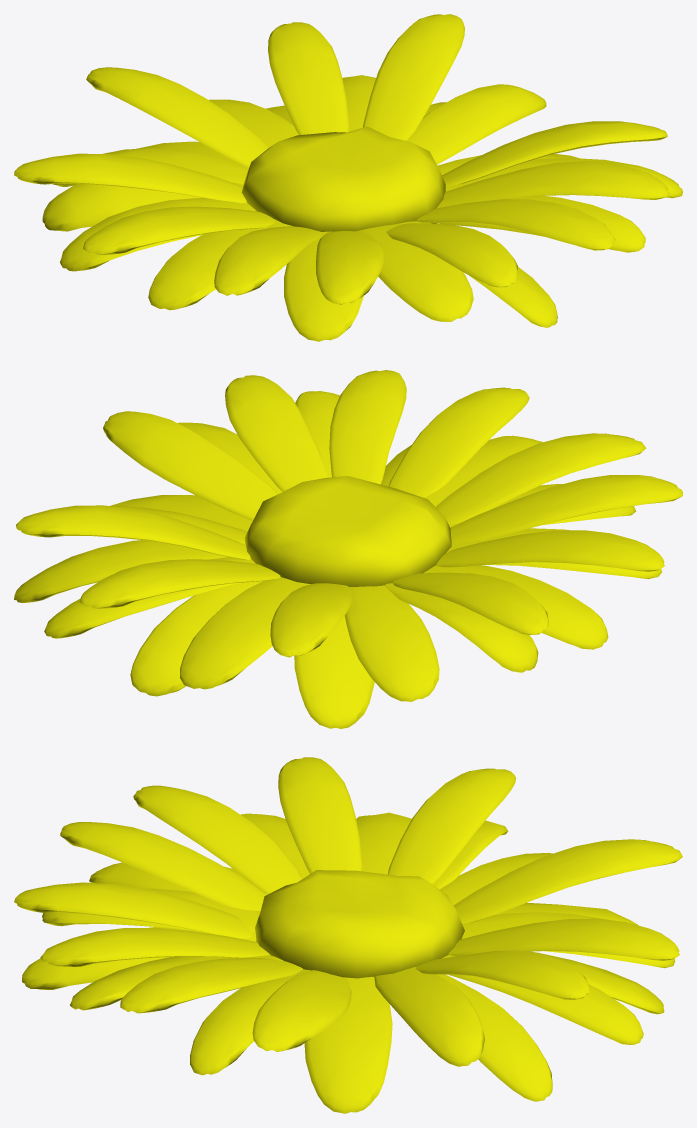
Rendered from daisy.fbx.
3 renders of one model, top to bottom at view 1: azimuth 30°, elevation 25°; view 2: azimuth 150°, elevation 25°; view 3: azimuth 270°, elevation 25°, orthographic. The views are drawn at different scales.
Visible parts, largest first — view 1: daisy; view 2: daisy; view 3: daisy.
Part boxes in pixels (left/top/right/bottom): daisy: left=14, top=14, right=682, bottom=341; daisy: left=14, top=370, right=682, bottom=728; daisy: left=14, top=757, right=682, bottom=1113.
Size of the model in its own units: 12.45 by 2.31 by 12.39.
